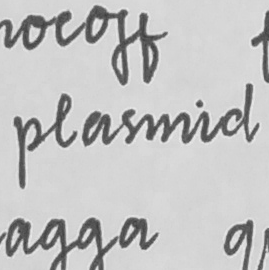a: (80, 109, 115, 148)
d: (218, 81, 256, 143)
i: (194, 99, 214, 145)
l: (51, 91, 78, 149)
m: (142, 109, 193, 146)
p: (10, 114, 45, 192)
s: (118, 106, 140, 146)
